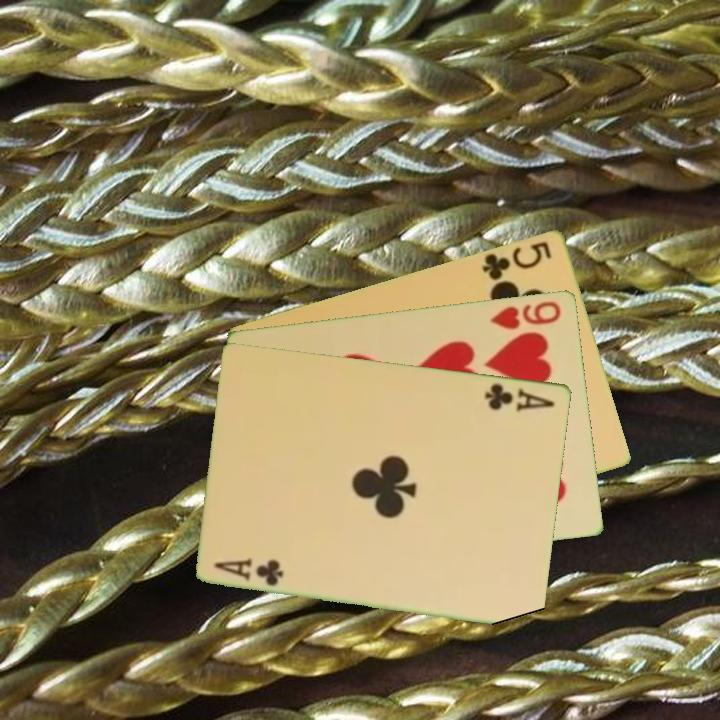5c: (478, 237, 555, 286)
9h: (487, 297, 564, 332)
Ac: (481, 379, 558, 415), (211, 555, 287, 589)
